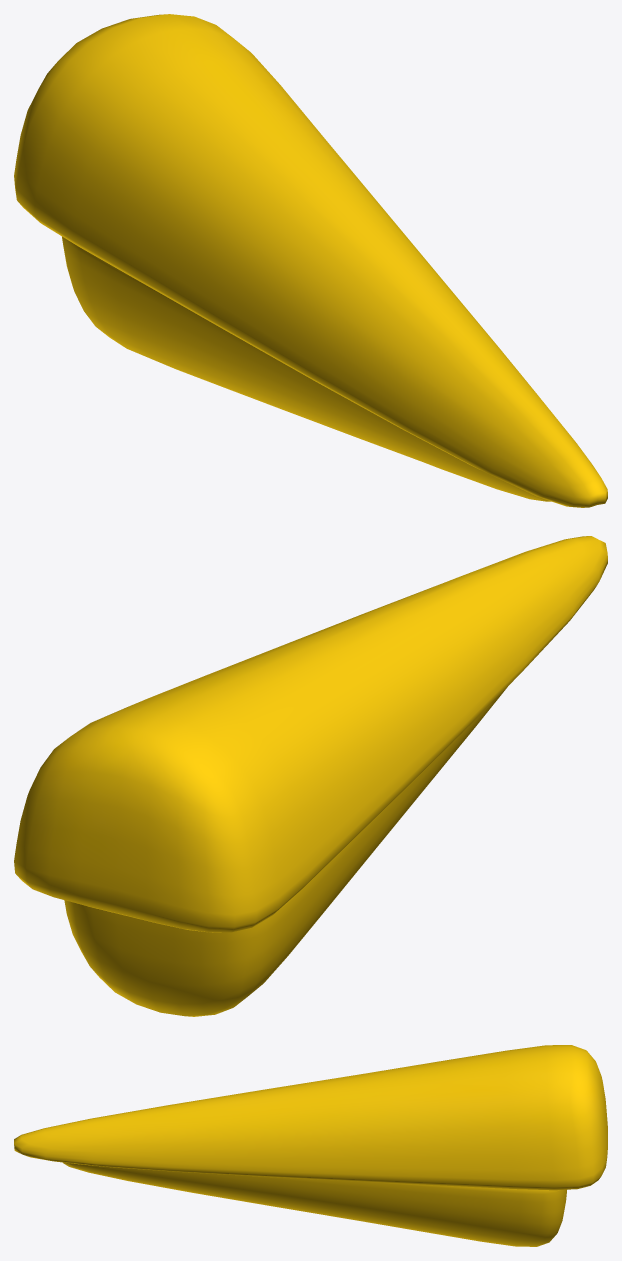
The model's file is PicoGunter_obj.obj.
3 renders of one model, top to bottom at view 1: azimuth 30°, elevation 25°; view 2: azimuth 150°, elevation 25°; view 3: azimuth 270°, elevation 25°, orthographic. The views are drawn at different scales.
Visible parts, largest first — view 1: Pico; view 2: Pico; view 3: Pico.
Part boxes in pixels (box(x1,y1,x2,y2)): Pico: box(14, 14, 607, 507); Pico: box(14, 536, 607, 1016); Pico: box(14, 1045, 607, 1246).
Size of the model in its own units: 0.1032 by 0.123 by 0.3542.
